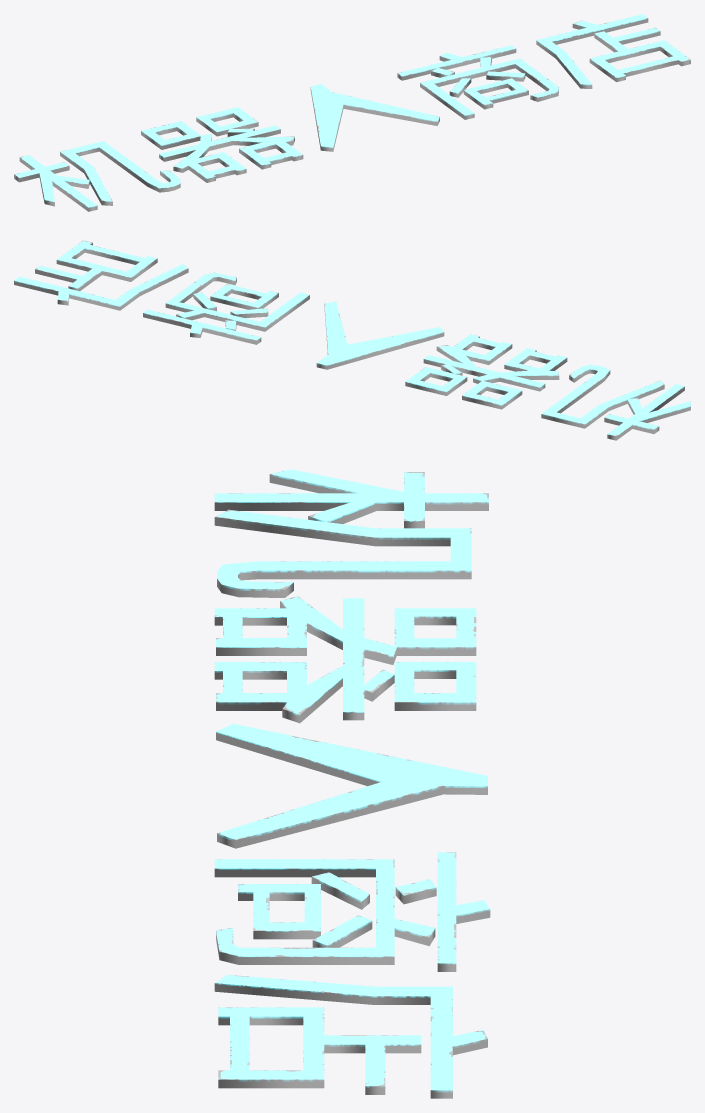
Rendered from SM_3DT_Sign_Robotics.fbx.
3 views of the same model, one above another, from view 1: azimuth 30°, elevation 25°; view 2: azimuth 150°, elevation 25°; view 3: azimuth 270°, elevation 25° (orthographic). The views are drawn at different scales.
Visible parts, largest first — view 1: SM_3DT_Sign_Robotics; view 2: SM_3DT_Sign_Robotics; view 3: SM_3DT_Sign_Robotics.
Part boxes in pixels (left/top/right/bottom): SM_3DT_Sign_Robotics: left=14, top=14, right=690, bottom=211; SM_3DT_Sign_Robotics: left=14, top=240, right=690, bottom=440; SM_3DT_Sign_Robotics: left=214, top=469, right=490, bottom=1098.
Size of the model in its own units: 494 by 3.2 by 92.55.
